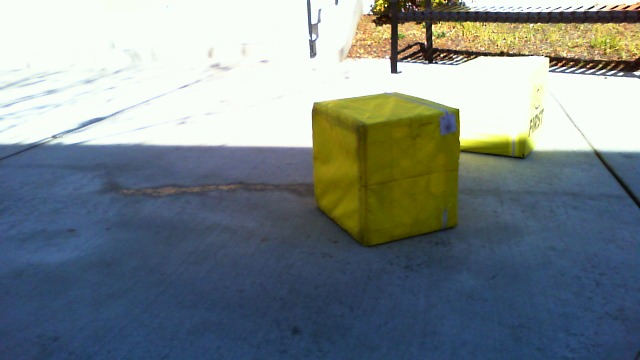cube: (306, 91, 462, 247), (449, 57, 554, 160)
